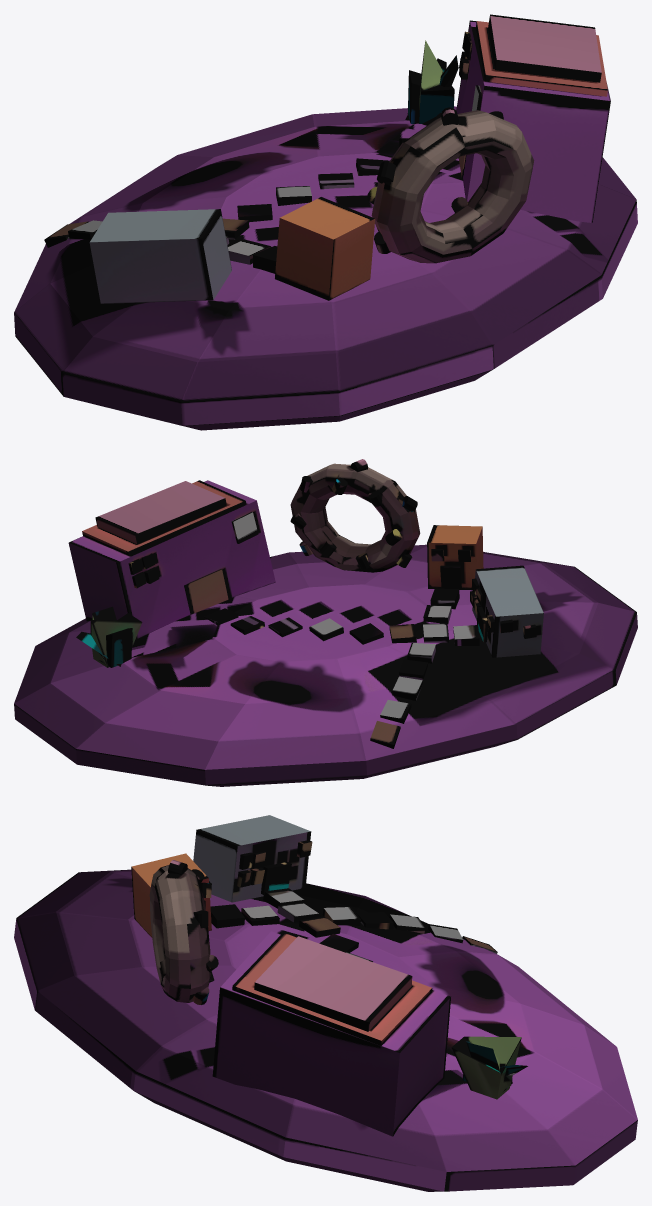
Rendered from newhouse.dae.
The picture shows the model from 3 angles, top to bottom: view 1: azimuth 30°, elevation 25°; view 2: azimuth 150°, elevation 25°; view 3: azimuth 270°, elevation 25°; orthographic projection. The views are drawn at different scales.
Parts seen in each view (by area): view 1: model; view 2: model; view 3: model.
Boxes of the visible parts, <box> form: model: <box>14,14,637,430</box>; model: <box>14,459,637,786</box>; model: <box>14,815,637,1191</box>.
Bounding box in the file's own units: 0.8972 × 0.8406 × 0.3683.
